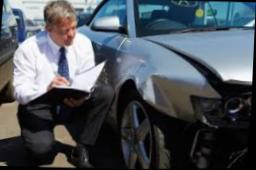Bonnet: (140, 31, 255, 93)
Bumper: (191, 122, 250, 169)
Fender: (114, 35, 223, 123)
